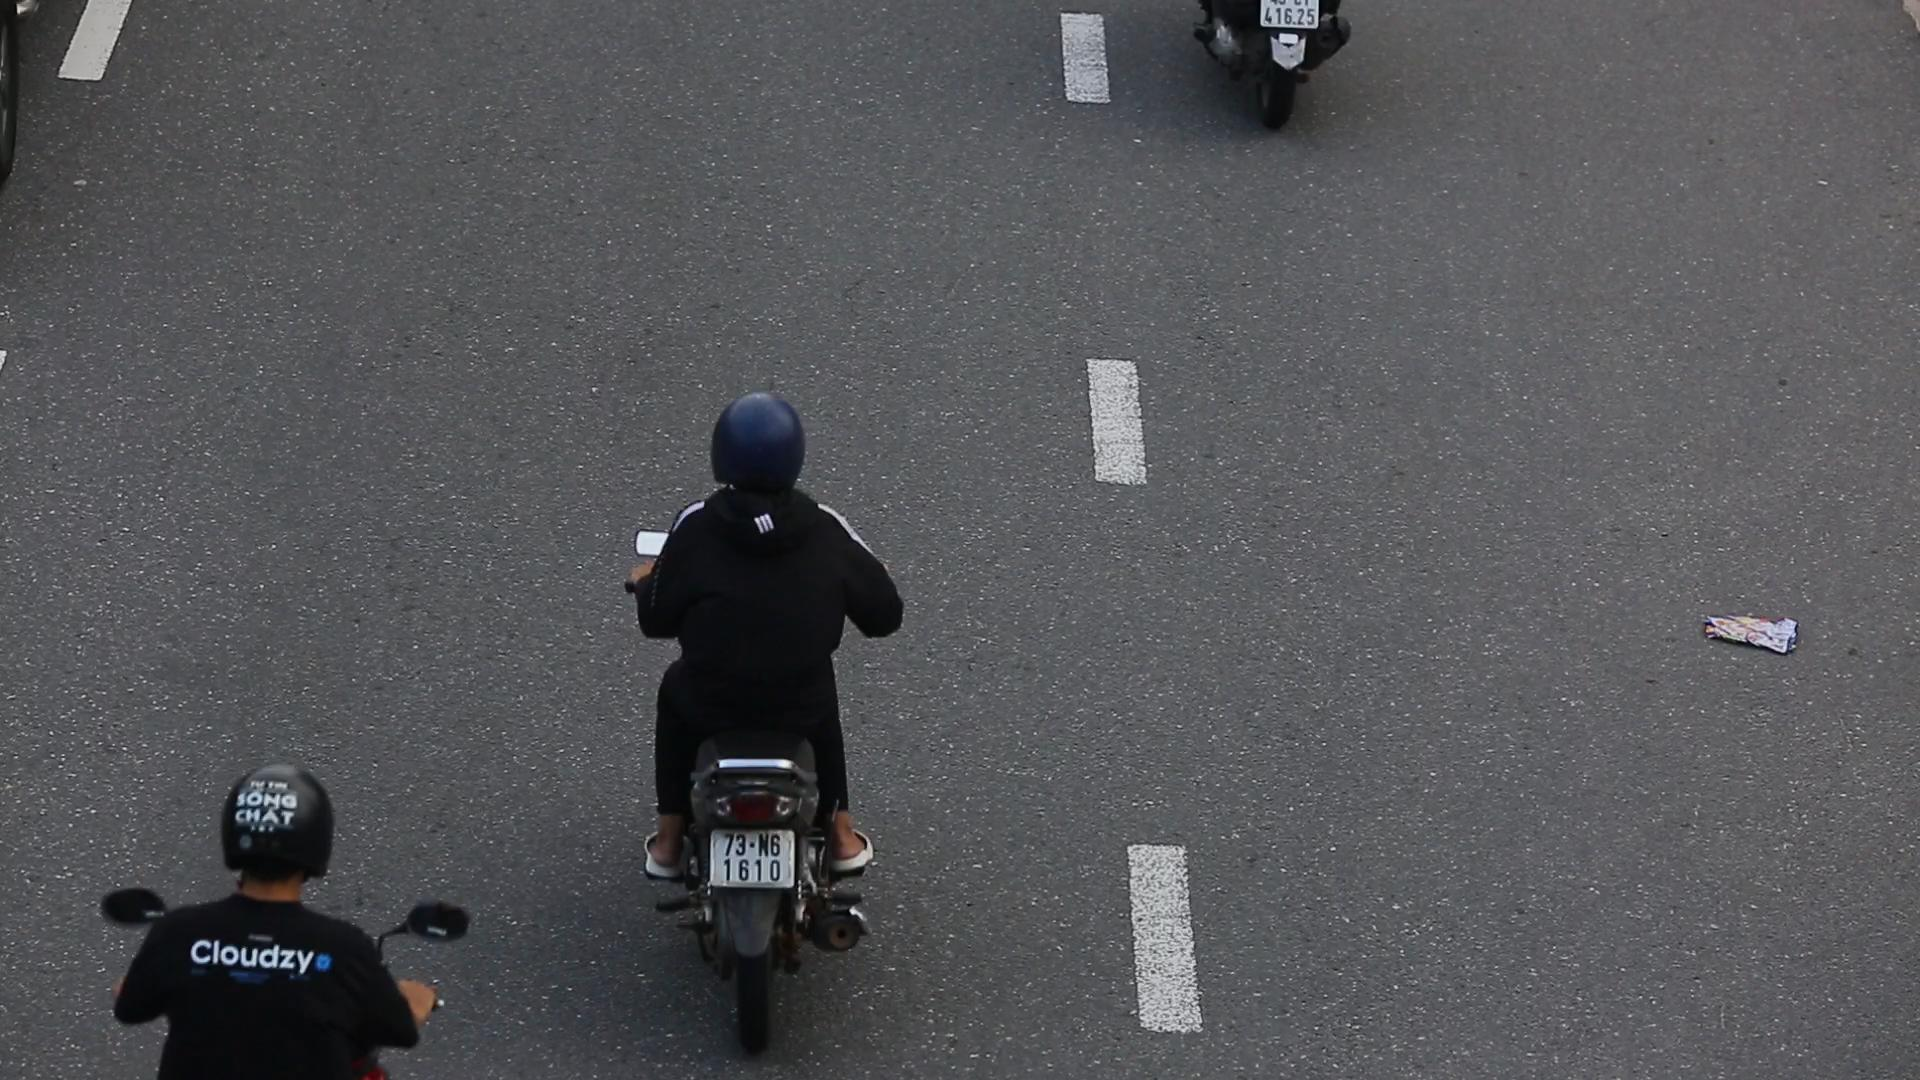motobike: (641, 372, 931, 1067)
